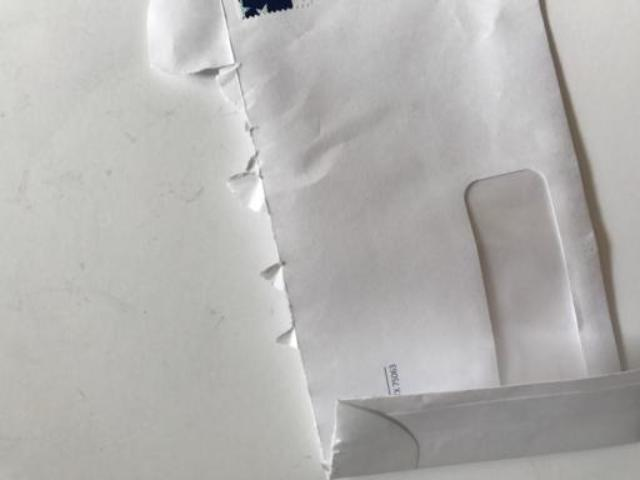cardboard paper: (148, 0, 638, 474)
